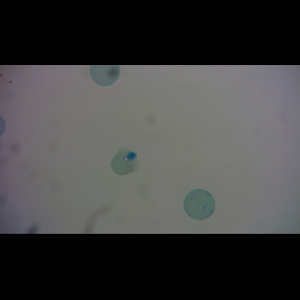erythrocyte: (109, 146, 142, 176)
punctate reticulocyte: (183, 188, 216, 222)
